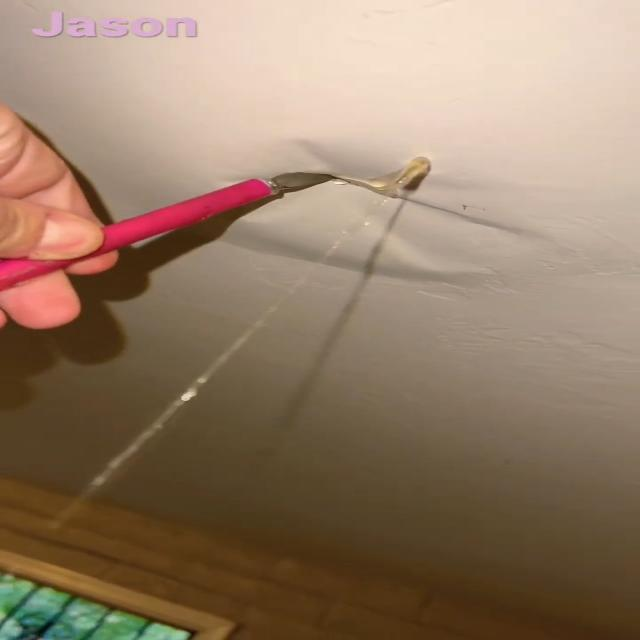wall_corrosion: (51, 269, 316, 526), (291, 158, 431, 416), (320, 201, 389, 264)
